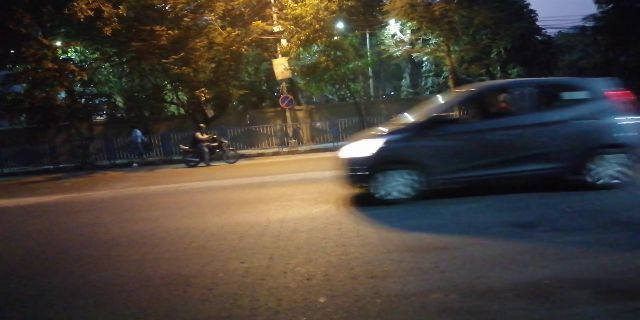Car: (345, 71, 631, 205)
Motorbike: (175, 120, 244, 168)
